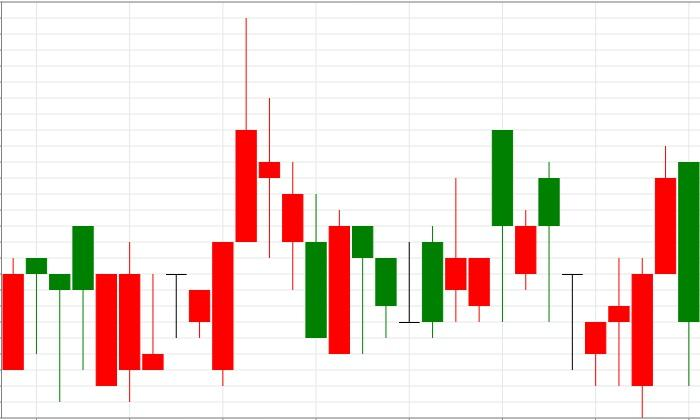inverse_hammer_rise: (72, 225, 164, 403)
